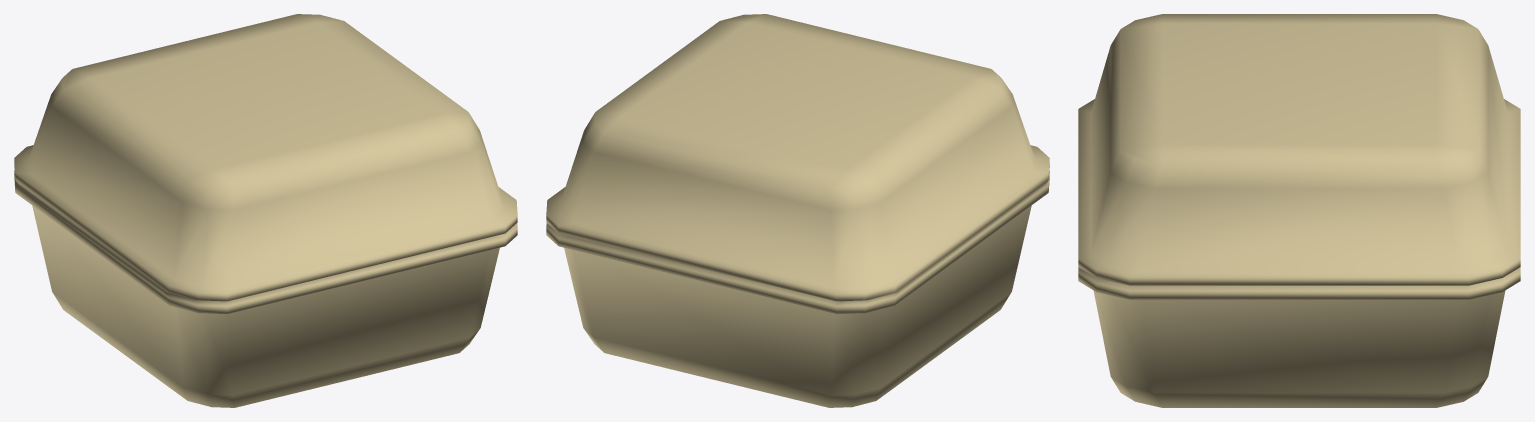
The model's file is FFHP_MOD_Food_box_closed.fbx.
The picture shows the model from 3 angles, left to right: view 1: azimuth 30°, elevation 25°; view 2: azimuth 150°, elevation 25°; view 3: azimuth 270°, elevation 25°; orthographic projection. The views are drawn at different scales.
Visible parts, largest first — view 1: FFHP_MOD_Food_box_closed; view 2: FFHP_MOD_Food_box_closed; view 3: FFHP_MOD_Food_box_closed.
Boxes of the visible parts, <box> form: FFHP_MOD_Food_box_closed: <box>14,14,517,407</box>; FFHP_MOD_Food_box_closed: <box>546,14,1049,407</box>; FFHP_MOD_Food_box_closed: <box>1078,14,1520,407</box>.
Bounding box in the file's own units: 0.2378 × 0.1503 × 0.2377.
